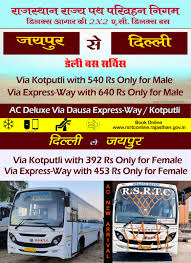bus: (7, 186, 103, 259), (110, 180, 185, 259)
